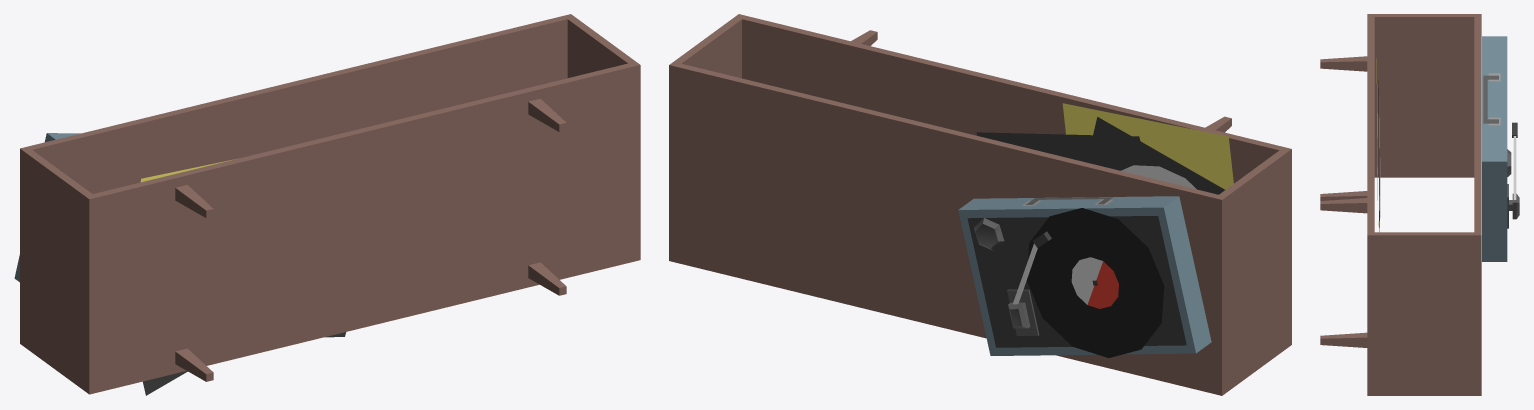
File: side-table.glb
3 views of the same model, side by side, from view 1: azimuth 30°, elevation 25°; view 2: azimuth 150°, elevation 25°; view 3: azimuth 270°, elevation 25° (orthographic). The views are drawn at different scales.
Parts seen in each view (by area): view 1: coffee_table_020; view 2: coffee_table_020; view 3: coffee_table_020.
Part boxes in pixels (<box>): coffee_table_020: <box>14,14,640,395</box>; coffee_table_020: <box>669,14,1291,395</box>; coffee_table_020: <box>1320,14,1519,395</box>.
Bounding box in the file's own units: 0.9043 × 0.3449 × 0.3445.
Materials: 1 (1 with a texture image).
